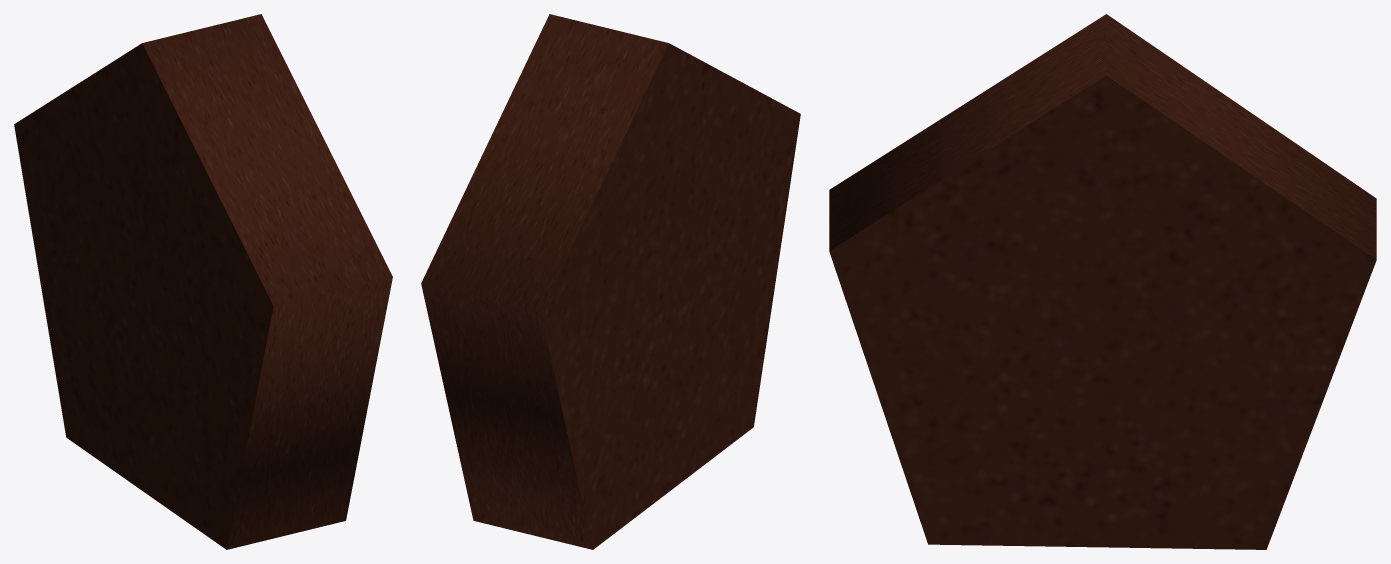
Rendered from wheel.fbx.
3 views of the same model, side by side, from view 1: azimuth 30°, elevation 25°; view 2: azimuth 150°, elevation 25°; view 3: azimuth 270°, elevation 25° (orthographic). The views are drawn at different scales.
Visible parts, largest first — view 1: Cylinder.001; view 2: Cylinder.001; view 3: Cylinder.001.
Part boxes in pixels (<box>): Cylinder.001: <box>14,14,392,549</box>; Cylinder.001: <box>421,14,800,549</box>; Cylinder.001: <box>829,14,1376,549</box>.
Size of the model in its own units: 26.73 by 96.36 by 101.
